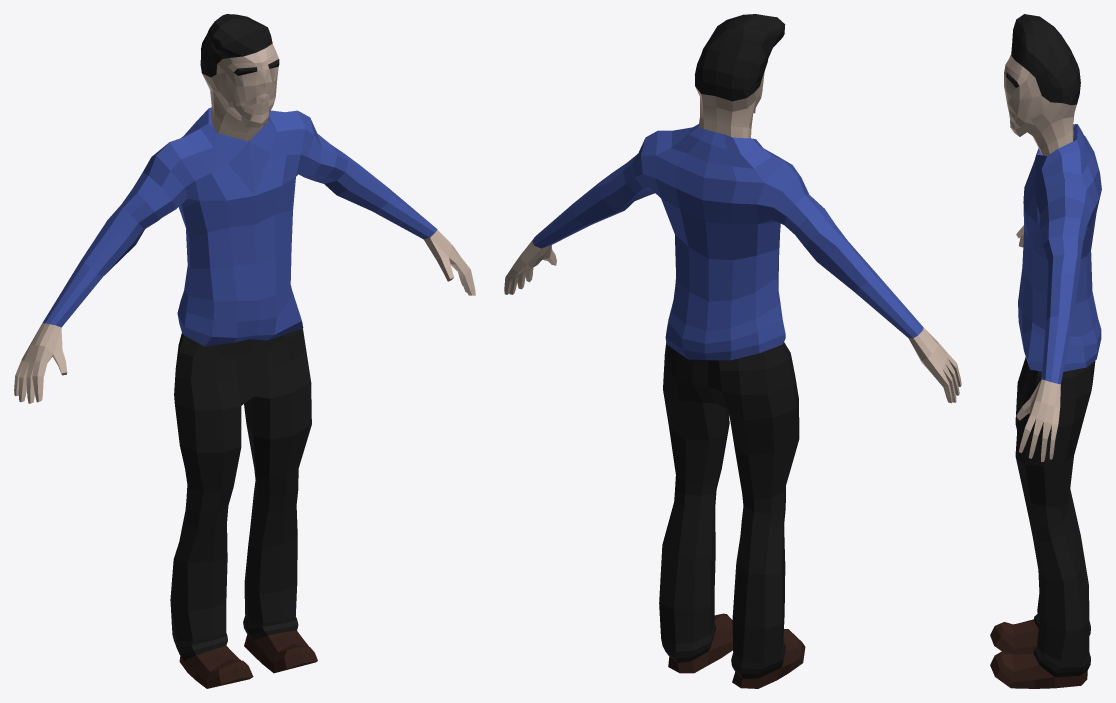
File: man_3.fbx
3 views of the same model, side by side, from view 1: azimuth 30°, elevation 25°; view 2: azimuth 150°, elevation 25°; view 3: azimuth 270°, elevation 25° (orthographic). The views are drawn at different scales.
Parts seen in each view (by area): view 1: man_3; view 2: man_3; view 3: man_3.
Part boxes in pixels (x1,y1,x2,y2): man_3: (14, 14, 475, 688); man_3: (504, 14, 961, 688); man_3: (990, 14, 1101, 688).
Bounding box in the file's own units: 114 × 158 × 25.23.
